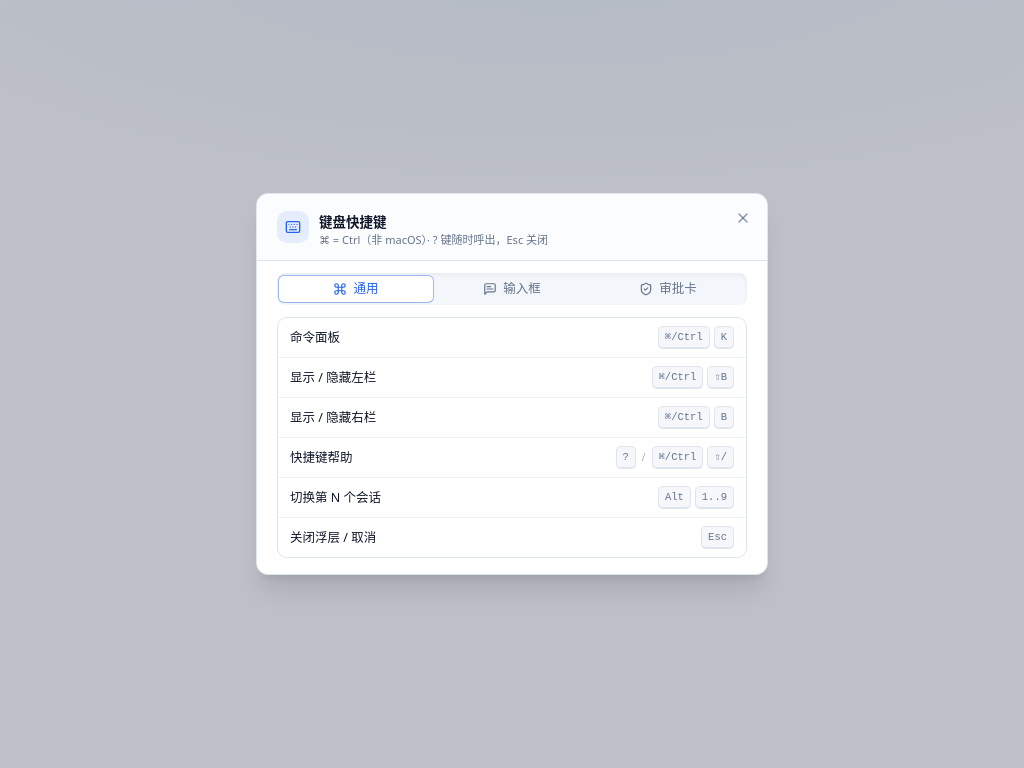
快捷键帮助（M12 · Tab 分组） › 切到「审批卡」页签：审批按键组呈现
Click the tab "审批卡".
click(668, 289)  # box [591,276,745,302]
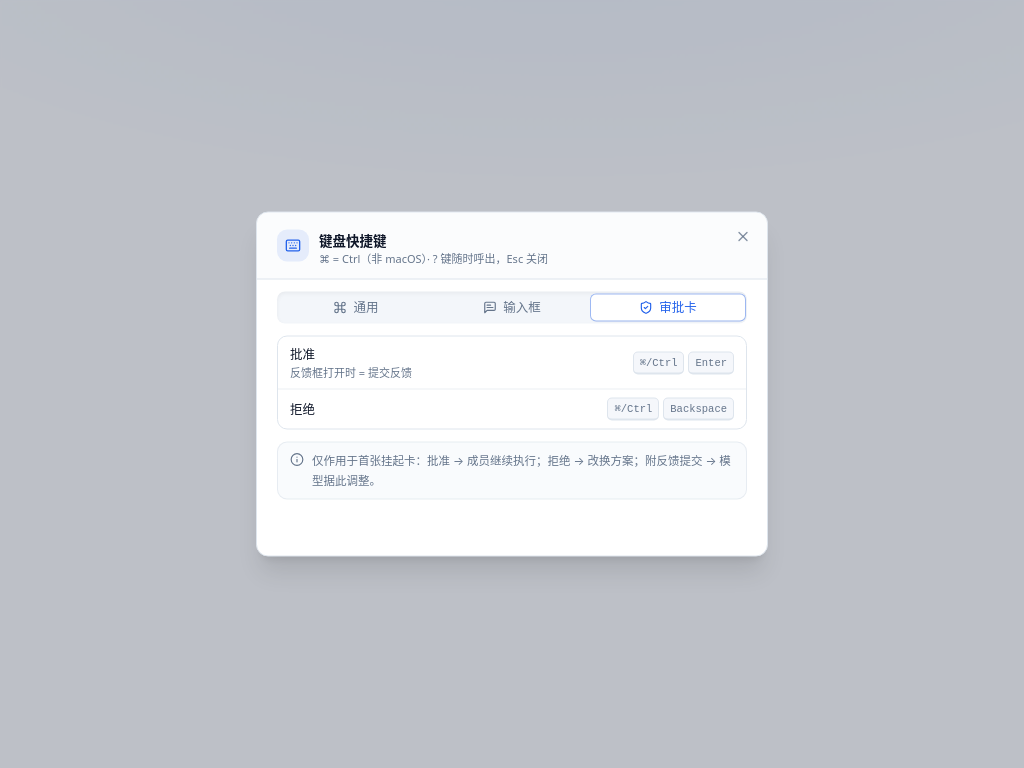
Expected: the text "Backspace" is shown, [663,398,734,420]
Expected: the text "批准" is shown, [290,346,315,362]
